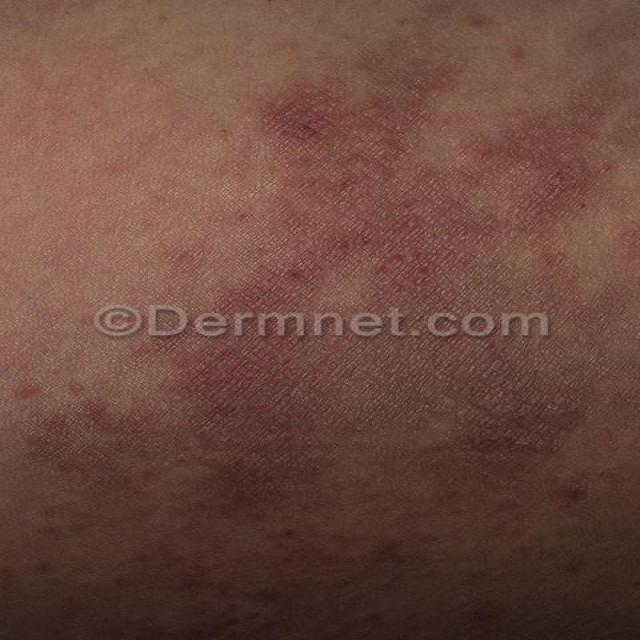Eczema: (45, 43, 611, 554)
